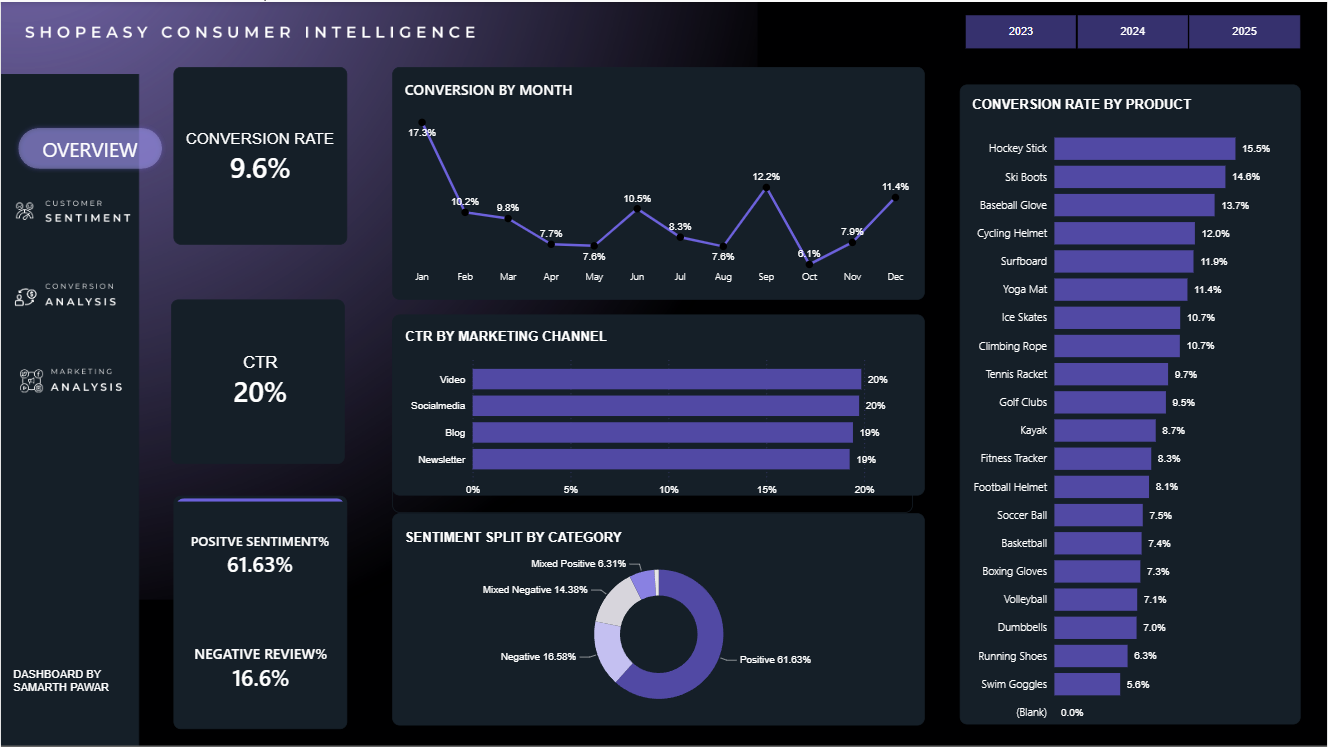

Layout of this report page (visuals, bound fields, positions):
{"tool":"powerbi","page":{"name":"overview","canvas":[1600,900],"ordinal":0},"visuals":[{"type":"shape","box":[0,159,149.2,49.2],"z":0},{"type":"shape","box":[208.2,78.7,209.8,214.8],"z":1000},{"type":"shape","box":[208.2,595.1,209.8,282],"z":2000},{"type":"shape","box":[1157.4,100,411.5,772.1],"z":3000},{"type":"shape","box":[472.4,78.2,642.6,280.7],"z":4000},{"type":"lineChart","title":"CONVERSION BY MONTH","fields":{"Category":["Calendar.MonthNameShort"],"Y":["calculations.Conversion Rate"]},"box":[472.4,78.2,642.6,280.7],"z":5000},{"type":"clusteredBarChart","title":"CONVERSION RATE BY PRODUCT","fields":{"Y":["calculations.Conversion Rate"],"Category":["products.ProductName"]},"box":[1157.4,100,411.5,800],"z":6000},{"type":"cardVisual","fields":{"Data":["negative_reviews_issues.neagtive review %"]},"box":[208.2,734.4,211.5,137.7],"z":7000},{"type":"shape","box":[472.1,616.4,642.6,255.7],"z":8000},{"type":"donutChart","title":"SENTIMENT SPLIT BY CATEGORY","fields":{"Category":["customer_reviews_sentiment.SentimentCategory"],"Y":["CountNonNull(customer_reviews_sentiment.ReviewID)"]},"box":[472.1,621.3,642.6,255.7],"z":9000},{"type":"cardVisual","fields":{"Data":["calculations.Conversion Rate"]},"box":[211.5,95.1,203.3,186.9],"z":10000},{"type":"cardVisual","fields":{"Data":["calculations.% Positive Sentiment"]},"box":[211.7,598.2,204,136.5],"z":11000},{"type":"shape","box":[204.9,359,209.8,198.4],"z":12000},{"type":"shape","box":[472.1,377,642.6,218],"z":13000},{"type":"clusteredBarChart","title":"CTR BY MARKETING CHANNEL","fields":{"Category":["engagement_data_cleaned.ContentType"],"Y":["calculations.CTR"]},"box":[472.1,378.7,627.9,237.7],"z":14000},{"type":"cardVisual","fields":{"Data":["calculations.CTR"]},"box":[208.2,359,209.8,198.4],"z":15000},{"type":"slicer","fields":{"Values":["Calendar.Date.Variation.Date Hierarchy.Year"]},"box":[1142.6,13.1,442.6,44.3],"z":16000},{"type":"shape","box":[0,131.9,214.7,90.5],"z":17000},{"type":"actionButton","box":[11.5,223,157.4,59],"z":18000},{"type":"actionButton","box":[11.5,329.5,157.4,59],"z":19000},{"type":"actionButton","box":[11.5,421.3,157.4,59],"z":20000},{"type":"pageNavigator","box":[0,208.2,183.6,303.3],"z":21000},{"type":"textbox","box":[0,803.8,168.9,57.3],"z":22000}]}

Visuals, with their boxes in screenshot pixels (x1, y1, x2, y2), scaled from the page's 1600x900 canvas onto the 1328x747 screenshot:
shape: [x1=0, y1=132, x2=124, y2=173]
shape: [x1=173, y1=65, x2=347, y2=244]
shape: [x1=173, y1=494, x2=347, y2=728]
shape: [x1=961, y1=83, x2=1302, y2=724]
shape: [x1=392, y1=65, x2=925, y2=298]
"CONVERSION BY MONTH" lineChart: [x1=392, y1=65, x2=925, y2=298]
"CONVERSION RATE BY PRODUCT" clusteredBarChart: [x1=961, y1=83, x2=1302, y2=746]
cardVisual - negative_reviews_issues.neagtive review %: [x1=173, y1=610, x2=348, y2=724]
shape: [x1=392, y1=512, x2=925, y2=724]
"SENTIMENT SPLIT BY CATEGORY" donutChart: [x1=392, y1=516, x2=925, y2=728]
cardVisual - calculations.Conversion Rate: [x1=176, y1=79, x2=344, y2=234]
cardVisual - calculations.% Positive Sentiment: [x1=176, y1=497, x2=345, y2=610]
shape: [x1=170, y1=298, x2=344, y2=463]
shape: [x1=392, y1=313, x2=925, y2=494]
"CTR BY MARKETING CHANNEL" clusteredBarChart: [x1=392, y1=314, x2=913, y2=512]
cardVisual - calculations.CTR: [x1=173, y1=298, x2=347, y2=463]
slicer - Calendar.Date.Variation.Date Hierarchy.Year: [x1=948, y1=11, x2=1316, y2=48]
shape: [x1=0, y1=109, x2=178, y2=185]
actionButton: [x1=10, y1=185, x2=140, y2=234]
actionButton: [x1=10, y1=273, x2=140, y2=322]
actionButton: [x1=10, y1=350, x2=140, y2=399]
pageNavigator: [x1=0, y1=173, x2=152, y2=425]
textbox: [x1=0, y1=667, x2=140, y2=715]
